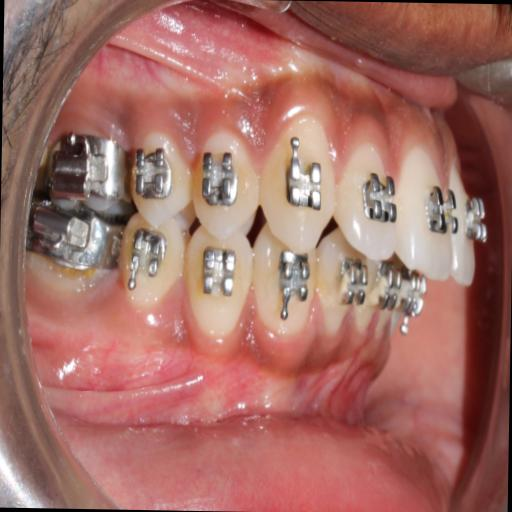correct_brace: (186, 128, 256, 244), (356, 174, 402, 234), (282, 153, 324, 216), (426, 184, 460, 240)
incorrect_brace: (336, 150, 398, 260), (201, 148, 240, 213)
